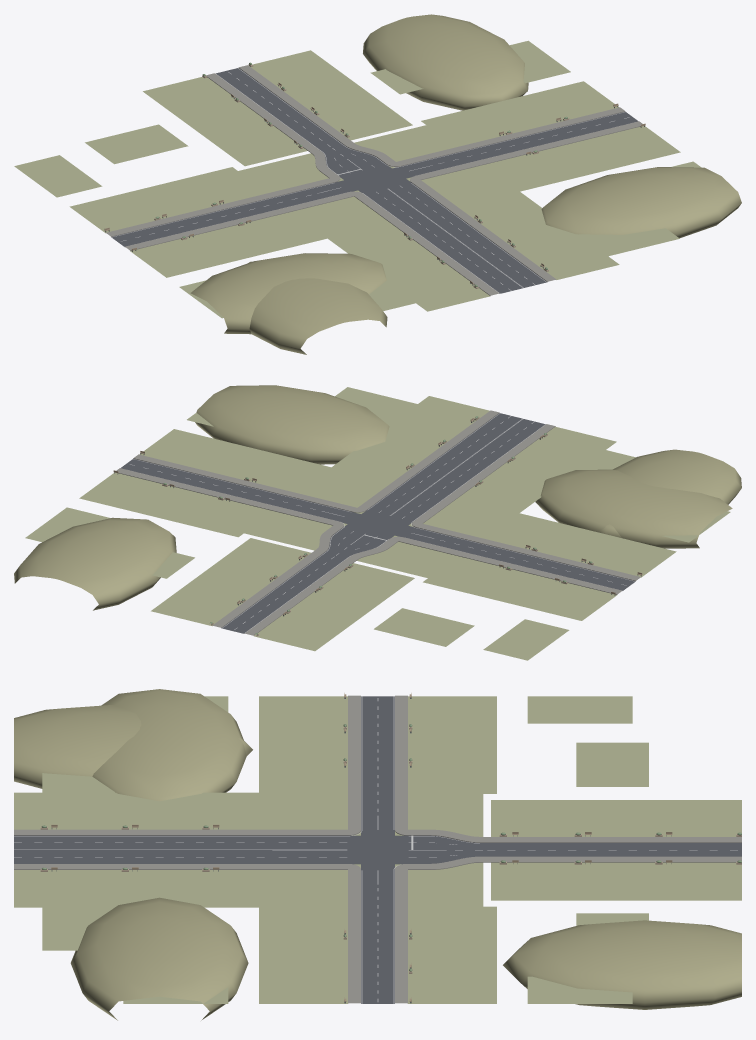
3 views of the same model, one above another, from view 1: azimuth 30°, elevation 25°; view 2: azimuth 150°, elevation 25°; view 3: azimuth 270°, elevation 25° (orthographic). The views are drawn at different scales.
Visible parts, largest first — view 1: static; view 2: static; view 3: static.
Boxes of the visible parts, box(x1,y1,x2,y2) form: static: box(14, 14, 741, 354); static: box(14, 385, 741, 660); static: box(14, 689, 741, 1020).
Size of what is drawn, in the model's own units: 180 by 14.08 by 180.
